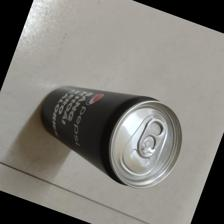Pepsi: (38, 84, 189, 189)
